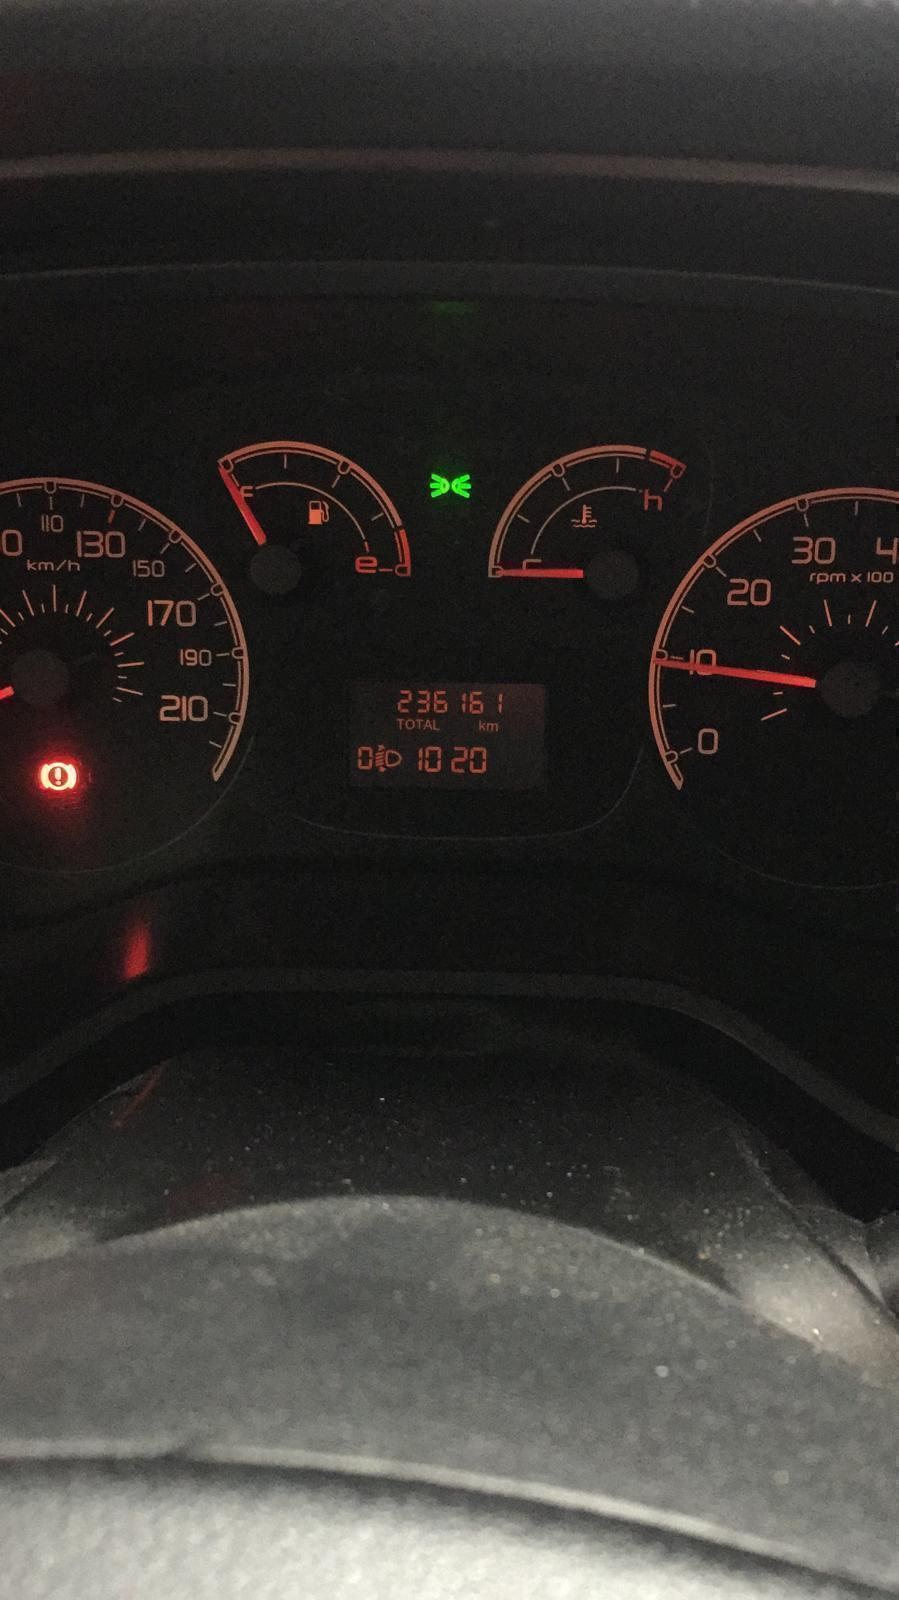0: (469, 744, 488, 775), (424, 744, 441, 774), (356, 745, 373, 773)
1: (417, 746, 424, 773), (497, 690, 504, 716), (460, 690, 467, 716)
2: (449, 742, 468, 775), (398, 688, 412, 714)
3: (417, 689, 431, 714)
6: (433, 688, 448, 715), (469, 690, 484, 715)
X: (486, 721, 500, 733), (406, 716, 415, 731), (395, 716, 404, 730), (432, 718, 441, 732), (423, 718, 431, 732), (415, 716, 423, 731), (478, 718, 486, 731)
odometer: (330, 674, 550, 798)
